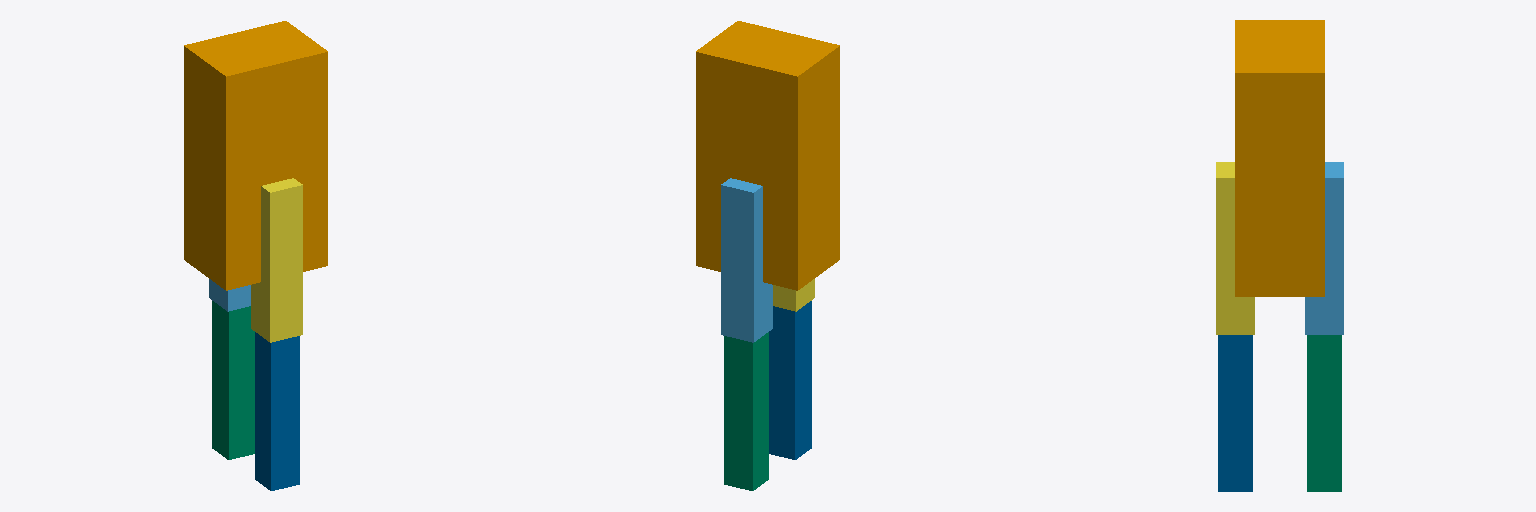
URDF robot description (synthetic_humanoid):
<?xml version='1.0' encoding='utf-8'?>
<robot name="synthetic_humanoid">
  <link name="torso">
    <inertial>
      <origin xyz="0 0 0" rpy="0 0 0" />
      <mass value="12" />
      <inertia ixx="0.2824" ixy="0" ixz="0" iyy="0.3125" iyz="0" izz="0.0949" />
    </inertial>
    <visual>
      <geometry>
        <box size="0.25 0.18 0.5" />
      </geometry>
    </visual>
    <collision>
      <geometry>
        <box size="0.25 0.18 0.5" />
      </geometry>
    </collision>
  </link>
  <link name="L_thigh">
    <inertial>
      <origin xyz="0 0 0" rpy="0 0 0" />
      <mass value="2" />
      <inertia ixx="0.02148333333333333" ixy="0" ixz="0" iyy="0.02148333333333333" iyz="0" izz="0.0021333333333333334" />
    </inertial>
    <visual>
      <geometry>
        <box size="0.08 0.08 0.35" />
      </geometry>
    </visual>
    <collision>
      <geometry>
        <box size="0.08 0.08 0.35" />
      </geometry>
    </collision>
  </link>
  <link name="L_shin">
    <inertial>
      <origin xyz="0 0 0" rpy="0 0 0" />
      <mass value="1.5" />
      <inertia ixx="0.015924999999999998" ixy="0" ixz="0" iyy="0.015924999999999998" iyz="0" izz="0.0012250000000000002" />
    </inertial>
    <visual>
      <geometry>
        <box size="0.07 0.07 0.35" />
      </geometry>
    </visual>
    <collision>
      <geometry>
        <box size="0.07 0.07 0.35" />
      </geometry>
    </collision>
  </link>
  <joint name="L_hip" type="revolute">
    <parent link="torso" />
    <child link="L_thigh" />
    <origin xyz="0 0.09 -0.2" rpy="0 0 0" />
    <axis xyz="0 1 0" />
    <limit lower="-1" upper="1" effort="10" velocity="2" />
  </joint>
  <joint name="L_knee" type="revolute">
    <parent link="L_thigh" />
    <child link="L_shin" />
    <origin xyz="0 0 -0.35" rpy="0 0 0" />
    <axis xyz="0 1 0" />
    <limit lower="-1" upper="1" effort="10" velocity="2" />
  </joint>
  <link name="R_thigh">
    <inertial>
      <origin xyz="0 0 0" rpy="0 0 0" />
      <mass value="2" />
      <inertia ixx="0.02148333333333333" ixy="0" ixz="0" iyy="0.02148333333333333" iyz="0" izz="0.0021333333333333334" />
    </inertial>
    <visual>
      <geometry>
        <box size="0.08 0.08 0.35" />
      </geometry>
    </visual>
    <collision>
      <geometry>
        <box size="0.08 0.08 0.35" />
      </geometry>
    </collision>
  </link>
  <link name="R_shin">
    <inertial>
      <origin xyz="0 0 0" rpy="0 0 0" />
      <mass value="1.5" />
      <inertia ixx="0.015924999999999998" ixy="0" ixz="0" iyy="0.015924999999999998" iyz="0" izz="0.0012250000000000002" />
    </inertial>
    <visual>
      <geometry>
        <box size="0.07 0.07 0.35" />
      </geometry>
    </visual>
    <collision>
      <geometry>
        <box size="0.07 0.07 0.35" />
      </geometry>
    </collision>
  </link>
  <joint name="R_hip" type="revolute">
    <parent link="torso" />
    <child link="R_thigh" />
    <origin xyz="0 -0.09 -0.2" rpy="0 0 0" />
    <axis xyz="0 1 0" />
    <limit lower="-1" upper="1" effort="10" velocity="2" />
  </joint>
  <joint name="R_knee" type="revolute">
    <parent link="R_thigh" />
    <child link="R_shin" />
    <origin xyz="0 0 -0.35" rpy="0 0 0" />
    <axis xyz="0 1 0" />
    <limit lower="-1" upper="1" effort="10" velocity="2" />
  </joint>
</robot>

--- Facts derived from the render (not from the file) ---
The picture shows the robot from 3 angles, left to right: view 1: azimuth 30°, elevation 25°; view 2: azimuth 150°, elevation 25°; view 3: azimuth 270°, elevation 25°; orthographic projection.
Model synthetic_humanoid with 5 links and 4 joints (4 revolute), rooted at torso, posed all joints at 0.
Visible links, largest first — view 1: torso, R_thigh, R_shin, L_shin, L_thigh; view 2: torso, L_thigh, L_shin, R_shin, R_thigh; view 3: torso, L_shin, R_shin, L_thigh, R_thigh.
Boxes of the visible links, x1=… form: torso: x1=184, y1=21, x2=327, y2=290; R_thigh: x1=251, y1=178, x2=302, y2=342; R_shin: x1=255, y1=332, x2=299, y2=490; L_shin: x1=212, y1=301, x2=254, y2=459; L_thigh: x1=209, y1=279, x2=250, y2=311; torso: x1=696, y1=21, x2=839, y2=290; L_thigh: x1=721, y1=178, x2=772, y2=342; L_shin: x1=724, y1=332, x2=768, y2=490; R_shin: x1=769, y1=301, x2=811, y2=459; R_thigh: x1=773, y1=279, x2=814, y2=311; torso: x1=1235, y1=20, x2=1324, y2=296; L_shin: x1=1307, y1=335, x2=1341, y2=491; R_shin: x1=1218, y1=335, x2=1252, y2=491; L_thigh: x1=1305, y1=162, x2=1343, y2=334; R_thigh: x1=1216, y1=162, x2=1254, y2=334.
Bounding box of the posed robot: 0.25 × 0.26 × 0.975 m (x, y, z).
Geometry: primitives only (box / cylinder / sphere), no mesh files.
